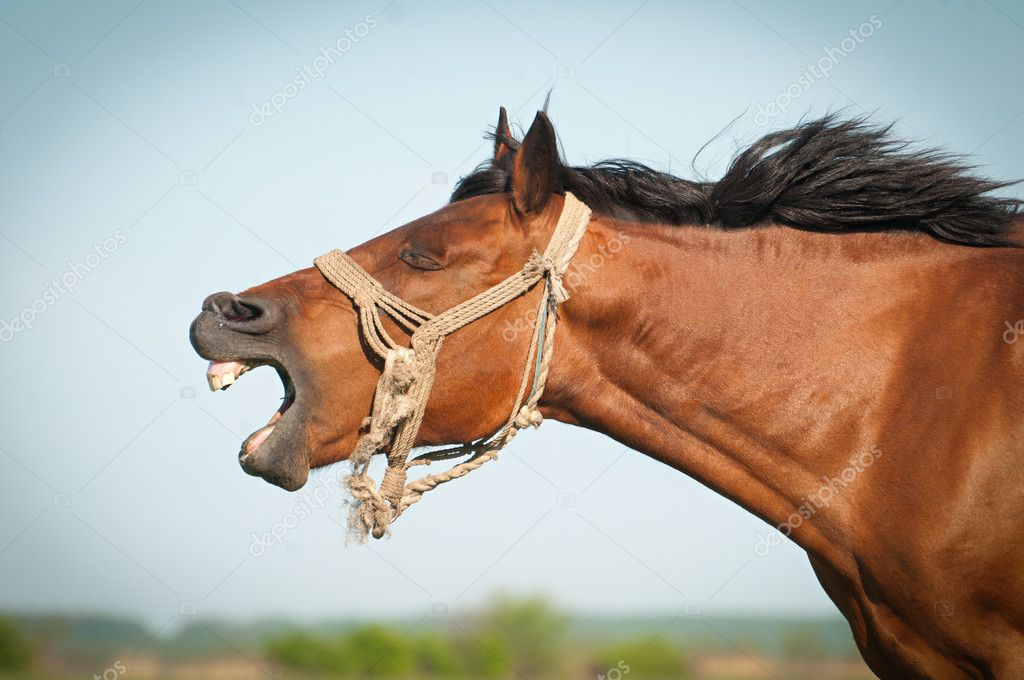Horse: (139, 94, 1024, 680)
